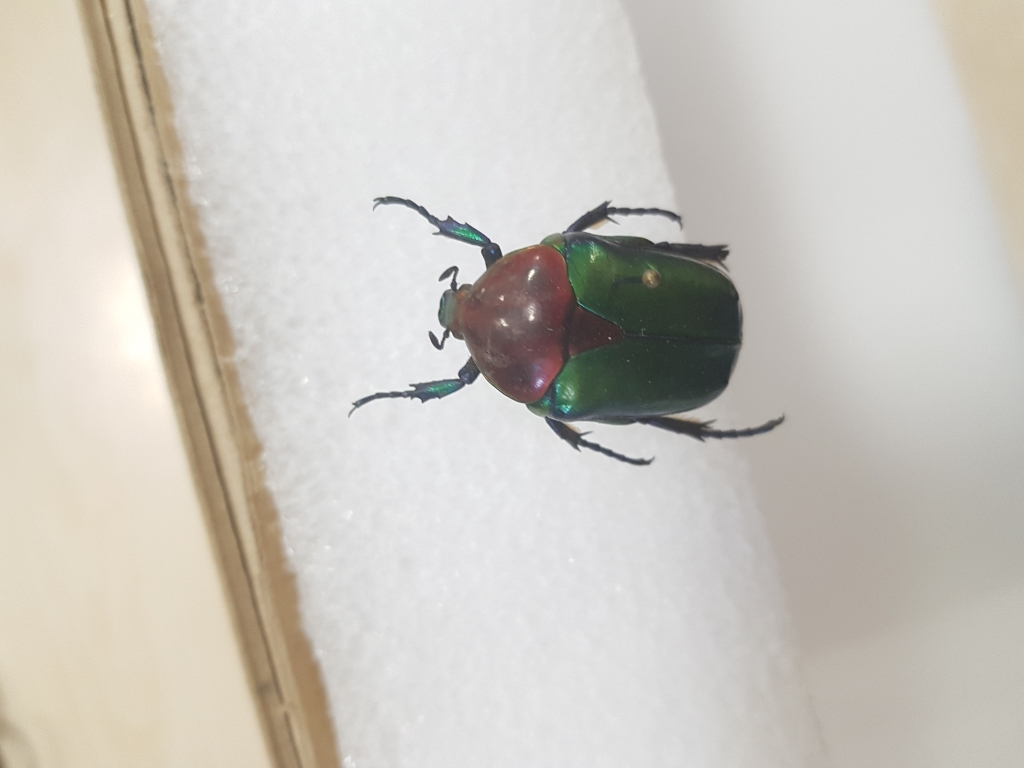Protaetia_speciosa_jousseliniw: (332, 166, 796, 464)
